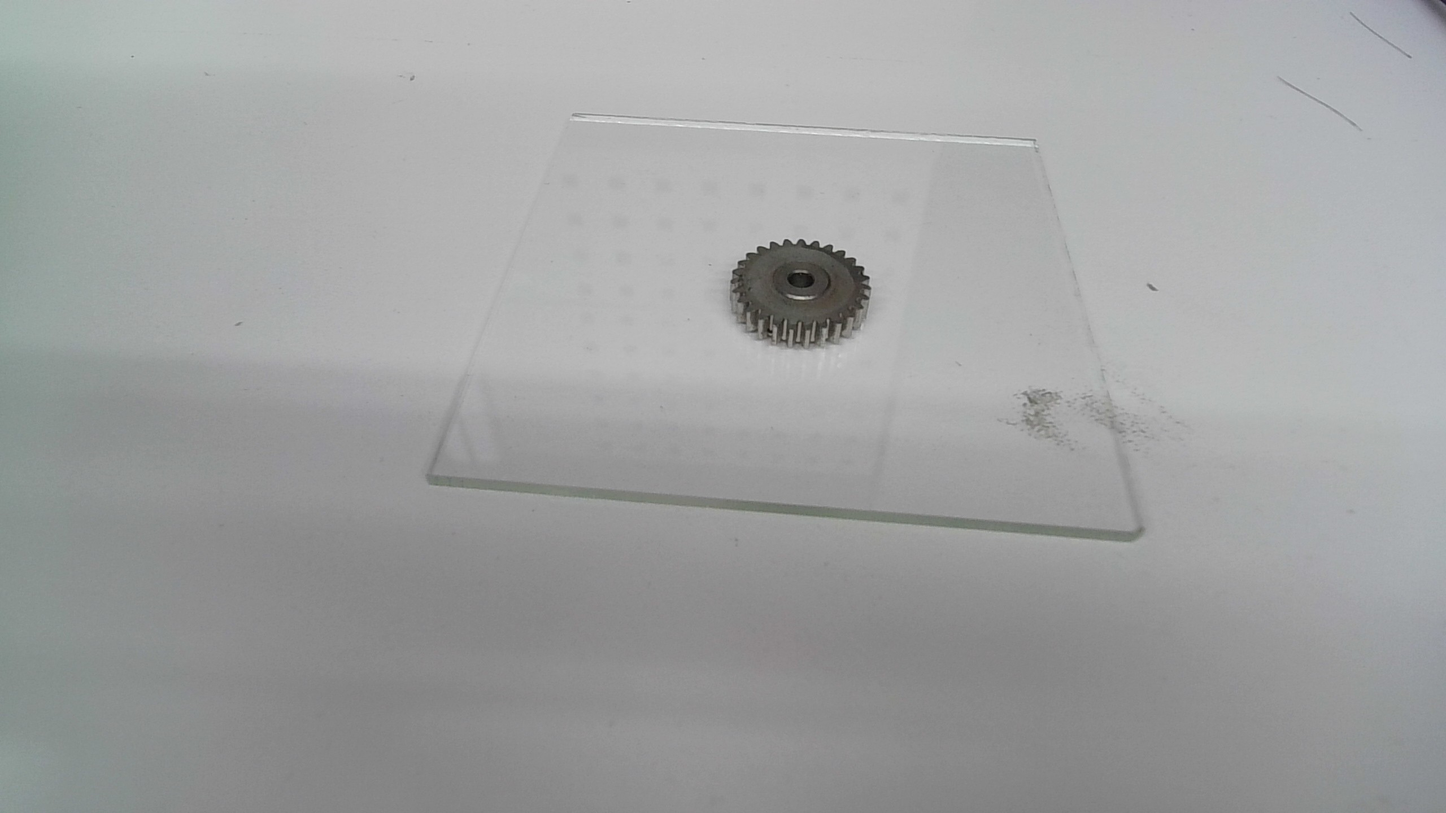gear: (728, 237, 873, 350)
